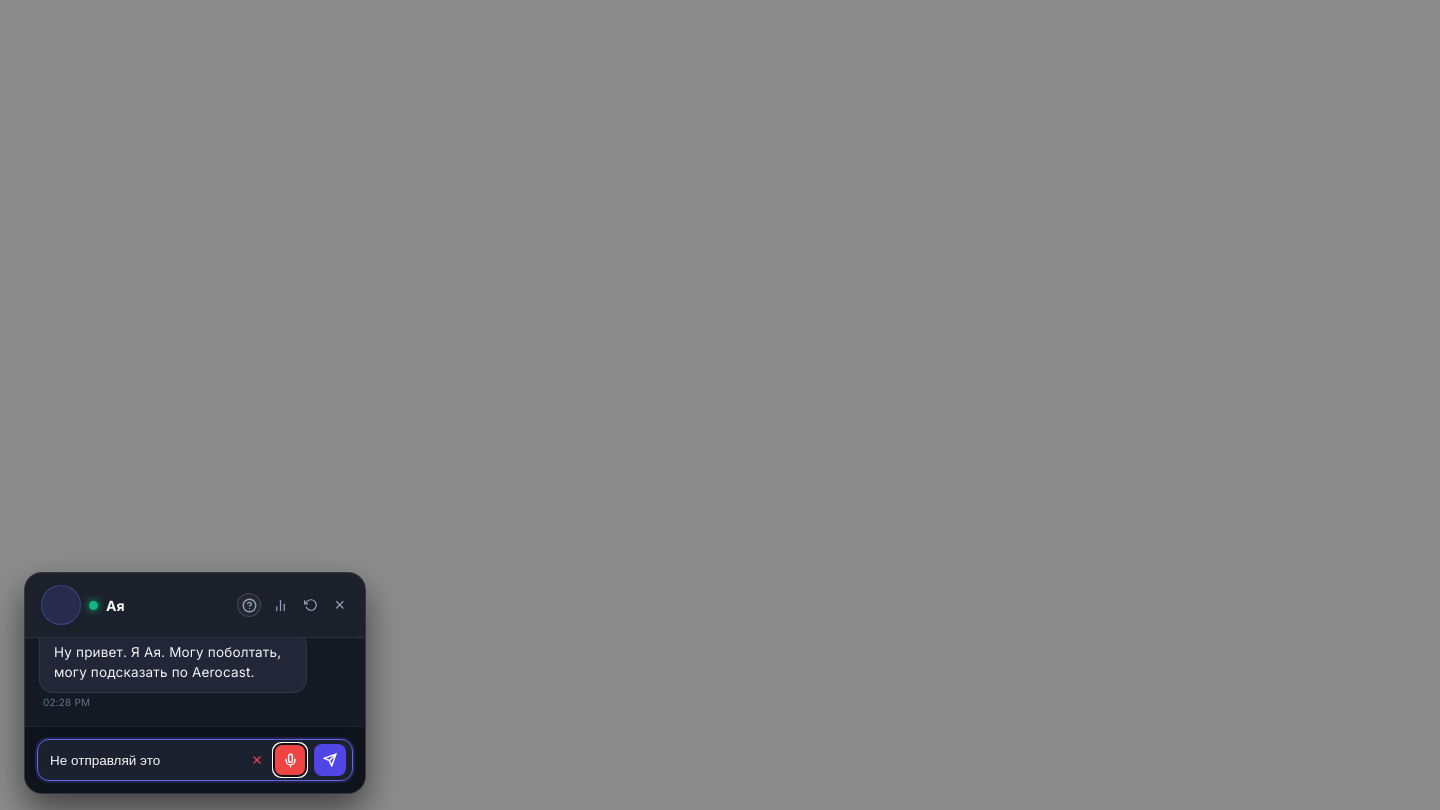
Test case: AiChatModal Voice Input (Голосовой ввод) › позволяет отменить голосовой ввод без отправки сообщения
Earlier steps of the test are not shown.
(page scrolled)
Click the button with test id "ai-chat-cancel-voice-btn". click: click(257, 760)
box: [248,754,266,766]
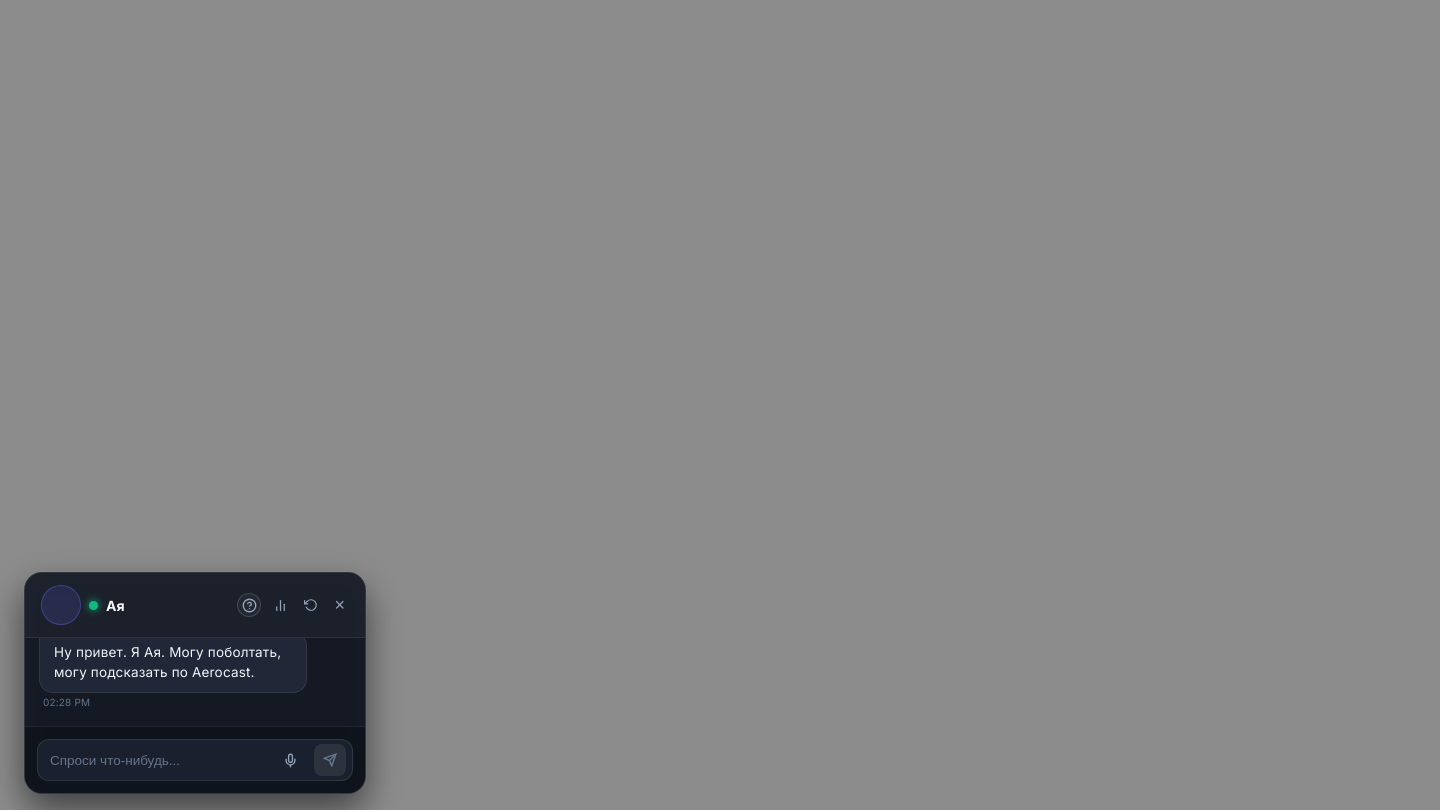
Expected: the field is empty, [50,744,266,776]
